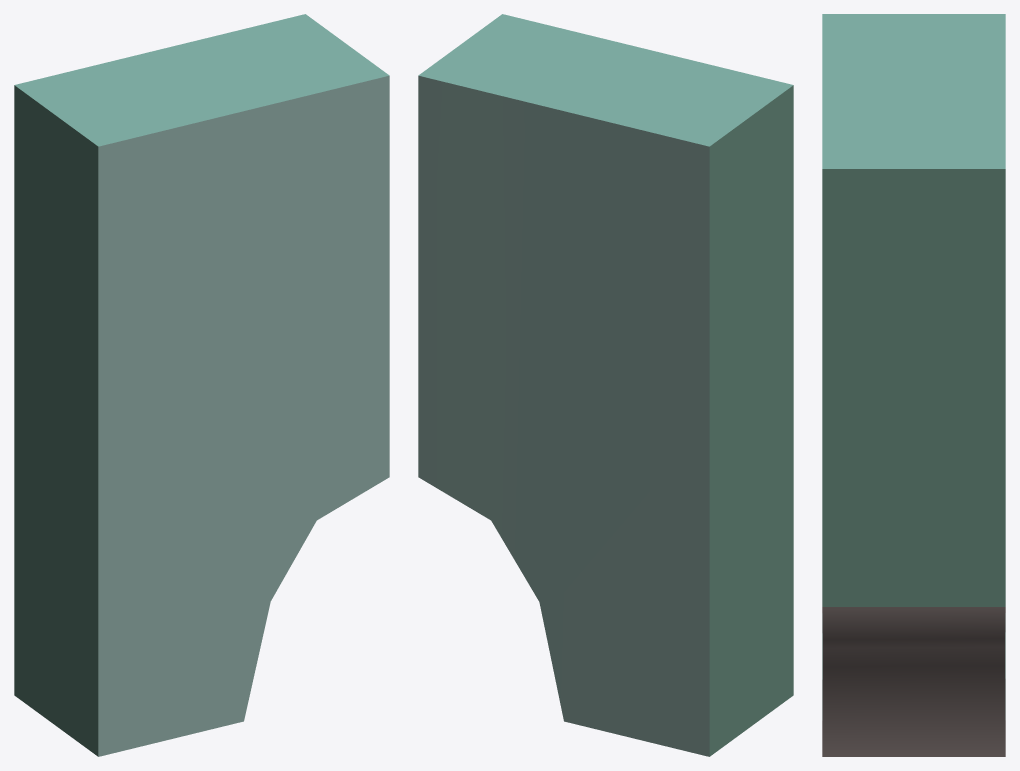
File: SM_Arche0,5_1x1.FBX
3 views of the same model, side by side, from view 1: azimuth 30°, elevation 25°; view 2: azimuth 150°, elevation 25°; view 3: azimuth 270°, elevation 25° (orthographic). The views are drawn at different scales.
Visible parts, largest first — view 1: SM_Arche0,5_1x1; view 2: SM_Arche0,5_1x1; view 3: SM_Arche0,5_1x1.
Part boxes in pixels (left/top/right/bottom): SM_Arche0,5_1x1: left=14, top=14, right=389, bottom=756; SM_Arche0,5_1x1: left=418, top=14, right=793, bottom=756; SM_Arche0,5_1x1: left=822, top=14, right=1005, bottom=756.
Bounding box in the file's own units: 49.95 × 100 × 25.
